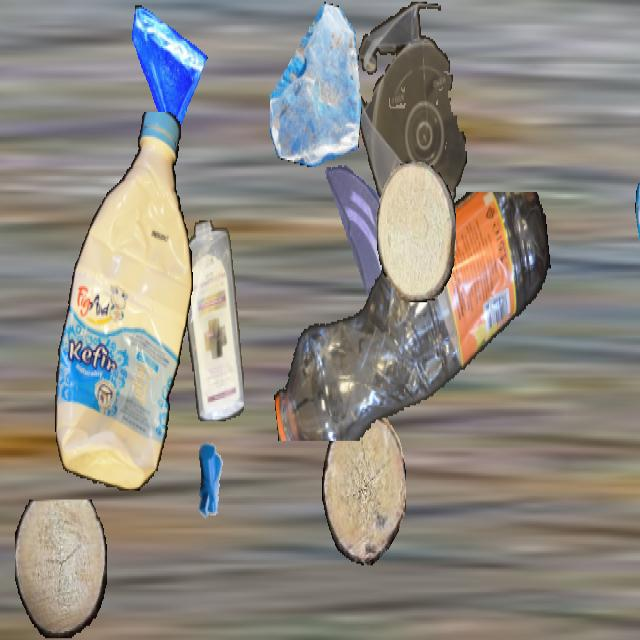glass: (270, 2, 362, 165), (321, 158, 405, 308), (126, 2, 208, 148), (635, 156, 640, 288)
metal: (180, 428, 242, 538)
plastic: (269, 192, 553, 441), (51, 112, 193, 489), (356, 2, 468, 236), (183, 220, 243, 420)
wood: (322, 412, 406, 566), (15, 500, 107, 638), (377, 162, 455, 300)
